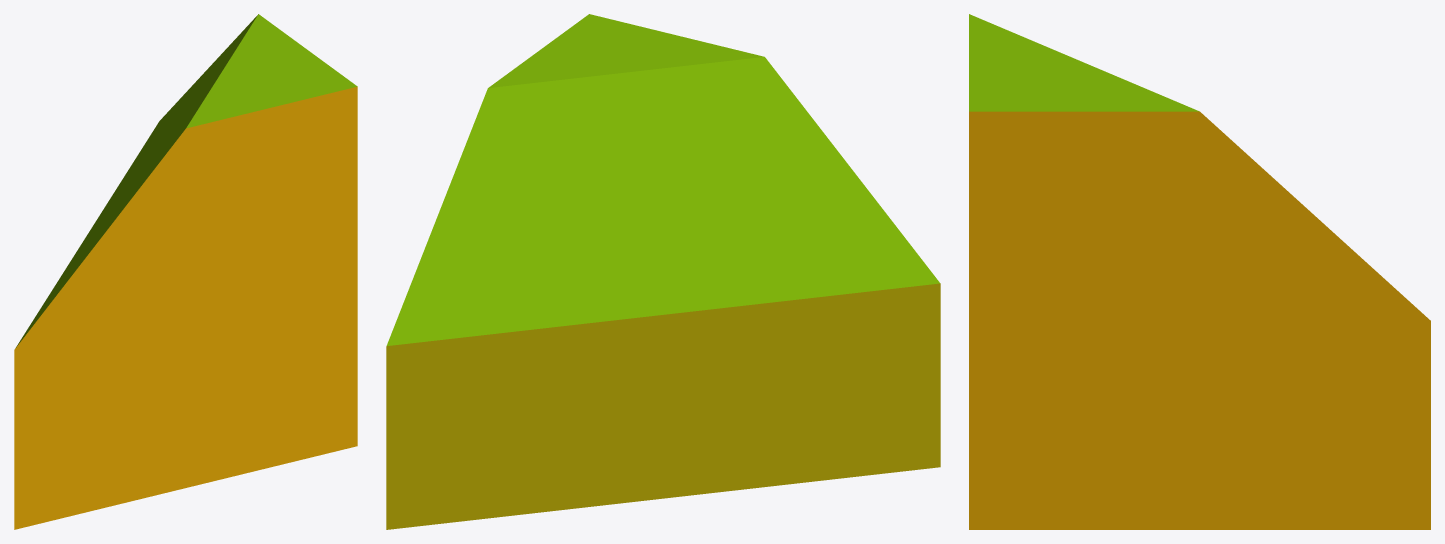
File: block_chamfered_corner.dae
3 renders of one model, left to right at view 1: azimuth 30°, elevation 25°; view 2: azimuth 150°, elevation 25°; view 3: azimuth 270°, elevation 25°, orthographic. The views are drawn at different scales.
Visible parts, largest first — view 1: Cube; view 2: Cube; view 3: Cube.
Part boxes in pixels (x1=…): Cube: x1=14, y1=14, x2=357, y2=529; Cube: x1=386, y1=14, x2=940, y2=529; Cube: x1=969, y1=14, x2=1430, y2=529.
Size of the model in its own units: 0.25 by 0.25 by 0.25.
